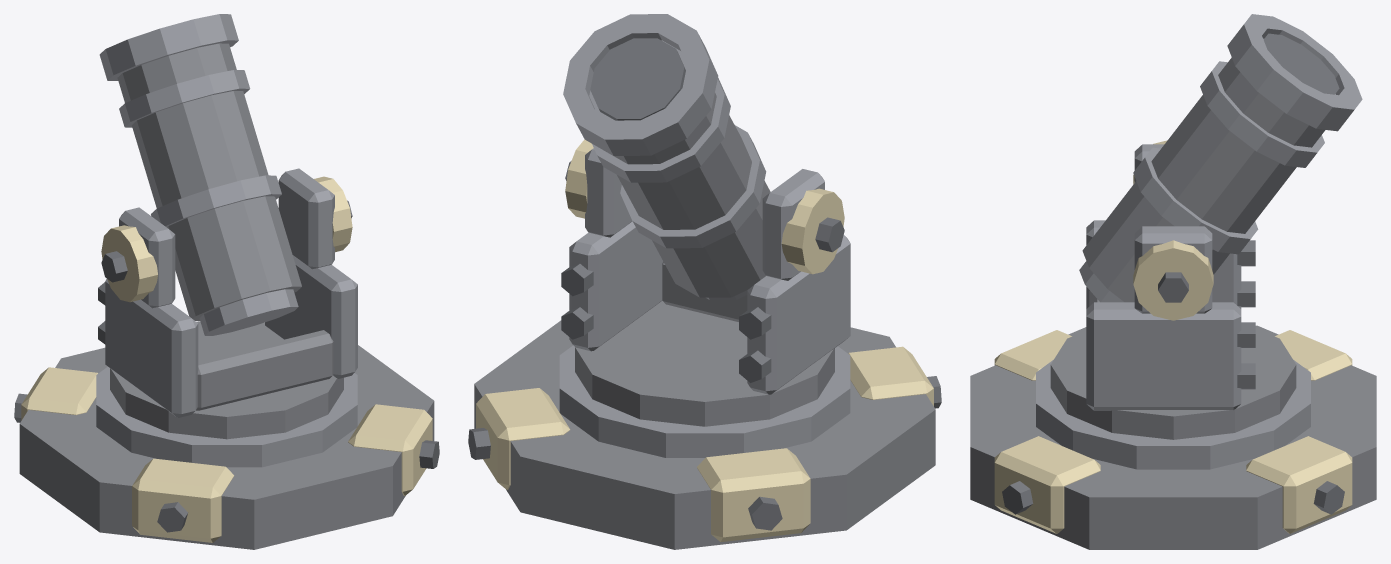
File: Mortar.fbx
3 renders of one model, left to right at view 1: azimuth 30°, elevation 25°; view 2: azimuth 150°, elevation 25°; view 3: azimuth 270°, elevation 25°, orthographic. The views are drawn at different scales.
Parts seen in each view (by area): view 1: Mortar.BasePlate, Mortar.TubeBarrel, Mortar.MountCheeks, Mortar.BaseCorners, Mortar.MountTurntable, Mortar.BasePlatform, Mortar.MountBar, Mortar.TubeRings, Mortar.TubeMuzzle, Mortar.MountTrunnionDiscs, Mortar.TubeBreech, Mortar.BaseBolts (+1 smaller); view 2: Mortar.BasePlate, Mortar.MountCheeks, Mortar.MountTurntable, Mortar.BaseCorners, Mortar.TubeBarrel, Mortar.BasePlatform, Mortar.TubeMuzzle, Mortar.TubeRings, Mortar.TubeBore, Mortar.MountTrunnionDiscs, Mortar.MountBolts, Mortar.MountBar (+1 smaller); view 3: Mortar.BasePlate, Mortar.MountCheeks, Mortar.TubeBarrel, Mortar.BaseCorners, Mortar.BasePlatform, Mortar.MountTurntable, Mortar.TubeMuzzle, Mortar.TubeRings, Mortar.MountTrunnionDiscs, Mortar.MountBolts, Mortar.TubeBore, Mortar.BaseBolts (+1 smaller).
Boxes of the visible parts, <box> form: Mortar.BasePlate: <box>19,345,434,549</box>; Mortar.TubeBarrel: <box>117,43,301,320</box>; Mortar.MountCheeks: <box>105,168,357,417</box>; Mortar.BaseCorners: <box>21,367,432,542</box>; Mortar.MountTurntable: <box>110,321,343,439</box>; Mortar.BasePlatform: <box>96,367,357,467</box>; Mortar.MountBar: <box>196,330,333,410</box>; Mortar.TubeRings: <box>119,70,281,227</box>; Mortar.TubeMuzzle: <box>99,14,238,80</box>; Mortar.MountTrunnionDiscs: <box>101,176,352,302</box>; Mortar.TubeBreech: <box>199,289,298,335</box>; Mortar.BaseBolts: <box>14,393,439,532</box>; Mortar.BasePlate: <box>474,320,935,549</box>; Mortar.MountCheeks: <box>569,148,850,394</box>; Mortar.MountTurntable: <box>575,301,834,426</box>; Mortar.BaseCorners: <box>476,346,933,541</box>; Mortar.TubeBarrel: <box>614,93,770,297</box>; Mortar.BasePlatform: <box>559,345,850,457</box>; Mortar.TubeMuzzle: <box>563,14,718,155</box>; Mortar.TubeRings: <box>592,77,766,248</box>; Mortar.TubeBore: <box>590,38,685,120</box>; Mortar.MountTrunnionDiscs: <box>565,139,844,274</box>; Mortar.MountBolts: <box>561,161,844,382</box>; Mortar.MountBar: <box>662,261,747,321</box>; Mortar.BasePlate: <box>970,325,1376,549</box>; Mortar.MountCheeks: <box>1086,144,1241,410</box>; Mortar.TubeBarrel: <box>1082,57,1325,302</box>; Mortar.BaseCorners: <box>994,330,1352,533</box>; Mortar.BasePlatform: <box>1036,360,1310,469</box>; Mortar.MountTurntable: <box>1050,328,1296,439</box>; Mortar.TubeMuzzle: <box>1227,14,1362,131</box>; Mortar.TubeRings: <box>1133,61,1324,254</box>; Mortar.MountTrunnionDiscs: <box>1133,140,1213,320</box>; Mortar.MountBolts: <box>1158,240,1255,389</box>; Mortar.TubeBore: <box>1263,33,1339,94</box>; Mortar.BaseBolts: <box>1002,481,1344,514</box>.
Size of the model in its own units: 6.28 by 7.51 by 6.28.
